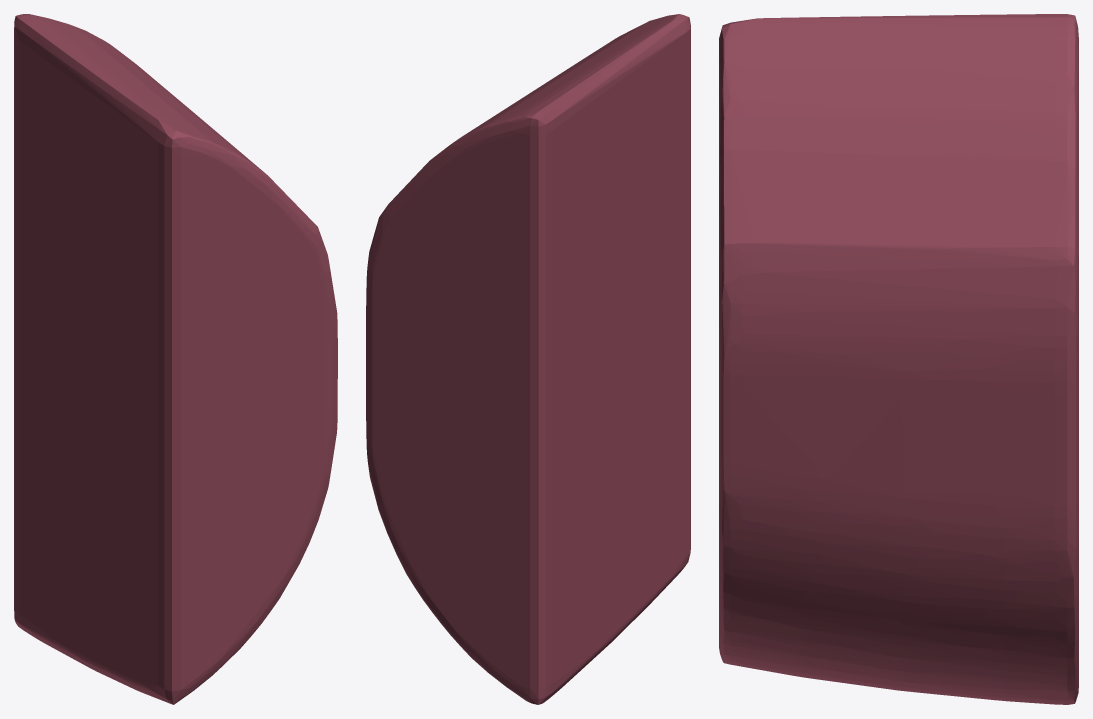
File: left_th_distal_pst_part_13.obj
3 renders of one model, left to right at view 1: azimuth 30°, elevation 25°; view 2: azimuth 150°, elevation 25°; view 3: azimuth 270°, elevation 25°, orthographic. The views are drawn at different scales.
Size of the model in its own units: 5.55 by 17.3 by 8.23.
